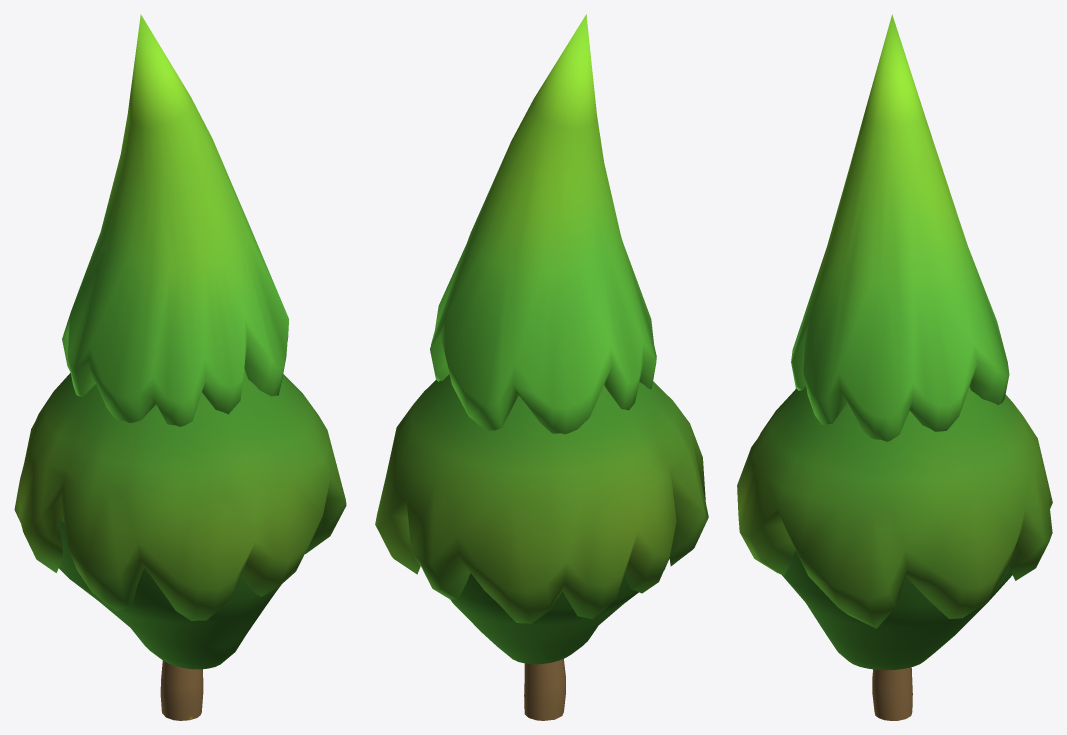
File: SM_Tree_09.fbx
3 renders of one model, left to right at view 1: azimuth 30°, elevation 25°; view 2: azimuth 150°, elevation 25°; view 3: azimuth 270°, elevation 25°, orthographic. The views are drawn at different scales.
Parts seen in each view (by area): view 1: tree09_LOD0; view 2: tree09_LOD0; view 3: tree09_LOD0.
Part boxes in pixels (bbox=[...]): tree09_LOD0: bbox=[14, 14, 346, 720]; tree09_LOD0: bbox=[375, 14, 708, 720]; tree09_LOD0: bbox=[737, 14, 1052, 720].
Size of what is drawn, in the model's own units: 985 by 2333 by 983.
Materials: 1 (1 with a texture image).
